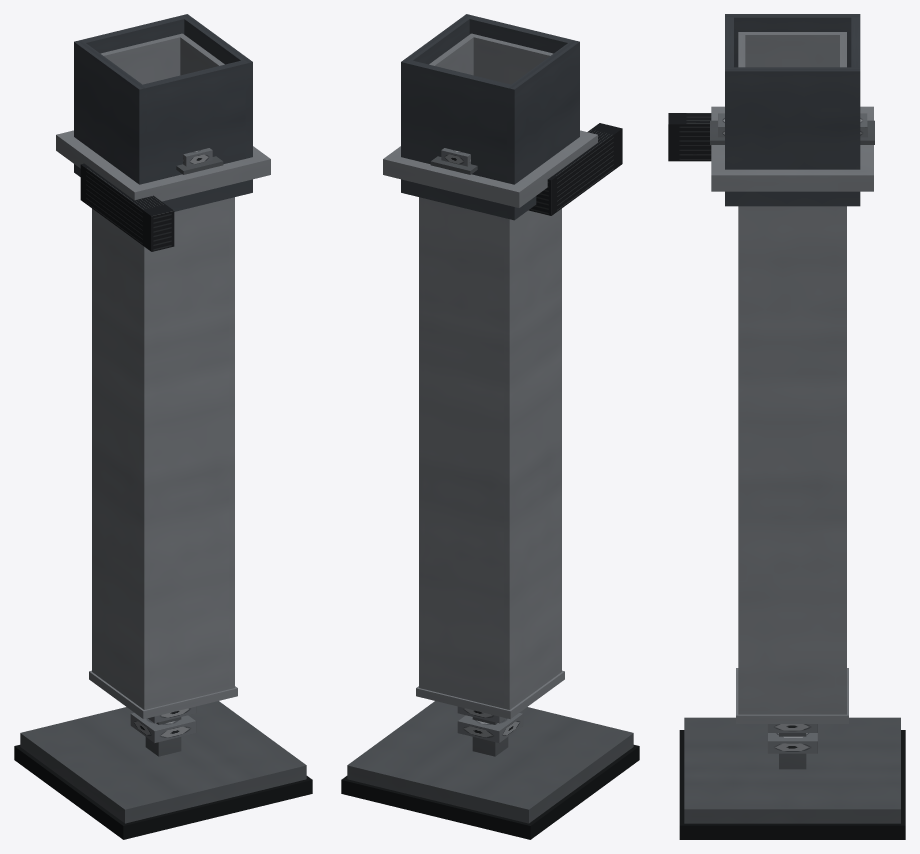
File: adjustable_leg_h040.obj
The picture shows the model from 3 angles, left to right: view 1: azimuth 30°, elevation 25°; view 2: azimuth 150°, elevation 25°; view 3: azimuth 270°, elevation 25°; orthographic projection. The views are drawn at different scales.
Visible parts, largest first — view 1: part_55, part_39, part_10, part_79, part_63, part_43, part_37, part_1, part_7, part_93, part_49, part_97 (+13 smaller); view 2: part_48, part_39, part_10, part_72, part_63, part_42, part_36, part_0, part_6, part_93, part_54, part_96 (+12 smaller); view 3: part_44, part_10, part_68, part_2, part_8, part_38, part_98, part_100, part_62, part_4, part_92, part_32 (+9 smaller).
Part boxes in pixels (x1,y1,x2,y2): part_55: [150, 198, 229, 708]; part_39: [92, 208, 144, 709]; part_10: [20, 701, 306, 809]; part_79: [147, 64, 245, 211]; part_63: [74, 42, 139, 184]; part_43: [229, 197, 234, 689]; part_37: [144, 247, 149, 709]; part_1: [123, 780, 312, 839]; part_7: [125, 765, 306, 823]; part_93: [80, 165, 151, 251]; part_49: [104, 37, 180, 84]; part_97: [134, 159, 270, 201]; part_48: [424, 198, 503, 708]; part_39: [509, 208, 561, 709]; part_10: [347, 701, 633, 809]; part_72: [408, 64, 506, 218]; part_63: [514, 42, 579, 219]; part_42: [419, 197, 424, 689]; part_36: [504, 218, 509, 709]; part_0: [341, 780, 530, 839]; part_6: [347, 765, 528, 823]; part_93: [551, 128, 622, 215]; part_54: [473, 37, 549, 84]; part_96: [383, 159, 519, 207]; part_44: [738, 206, 846, 714]; part_10: [684, 717, 900, 809]; part_68: [725, 71, 860, 206]; part_2: [679, 825, 905, 839]; part_8: [684, 809, 900, 823]; part_38: [745, 35, 839, 67]; part_98: [711, 175, 873, 191]; part_100: [711, 106, 873, 175]; part_62: [734, 17, 851, 67]; part_4: [679, 730, 905, 825]; part_92: [668, 124, 711, 161]; part_32: [736, 715, 848, 723].
Size of the model in its own units: 0.1 by 0.366 by 0.105.
Materials: 2 (2 with a texture image).
